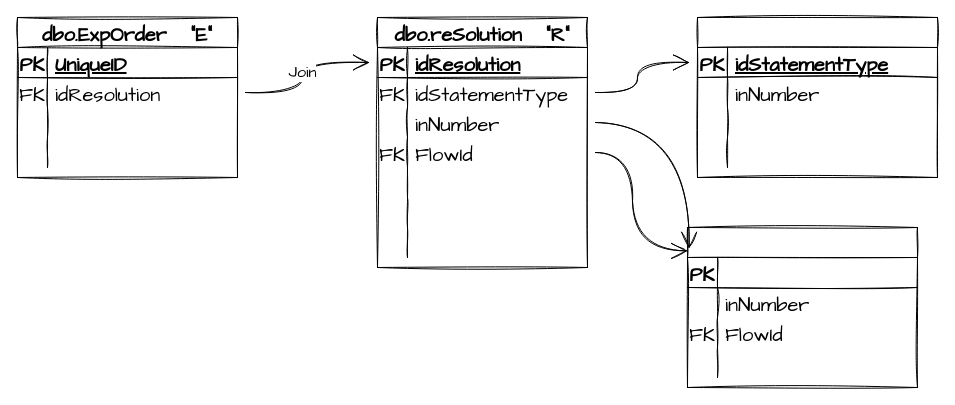
Some shapes in this 955 by 405 pixel diagram are drawn without their labels. Each missing label, with the box of its shape:
dbo.StatementIncoming: (686, 226, 918, 388)
dbo.StatementTypeList: (696, 16, 938, 178)
